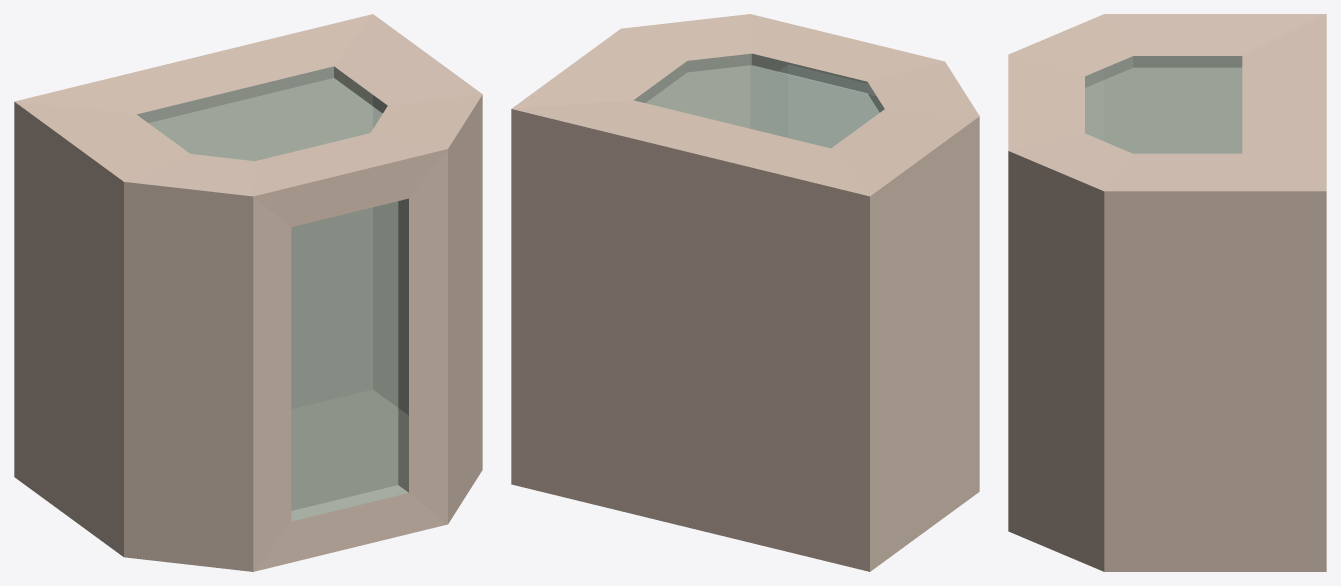
Rendered from silver_anubis.gltf.
The picture shows the model from 3 angles, left to right: view 1: azimuth 30°, elevation 25°; view 2: azimuth 150°, elevation 25°; view 3: azimuth 270°, elevation 25°; orthographic projection.
Parts seen in each view (by area): view 1: Plane.024; view 2: Plane.024; view 3: Plane.024.
Part boxes in pixels (bbox=[...]): Plane.024: bbox=[14, 14, 482, 571]; Plane.024: bbox=[511, 14, 979, 571]; Plane.024: bbox=[1008, 14, 1326, 571].
Bounding box in the file's own units: 1.75 × 1.75 × 1.33.
